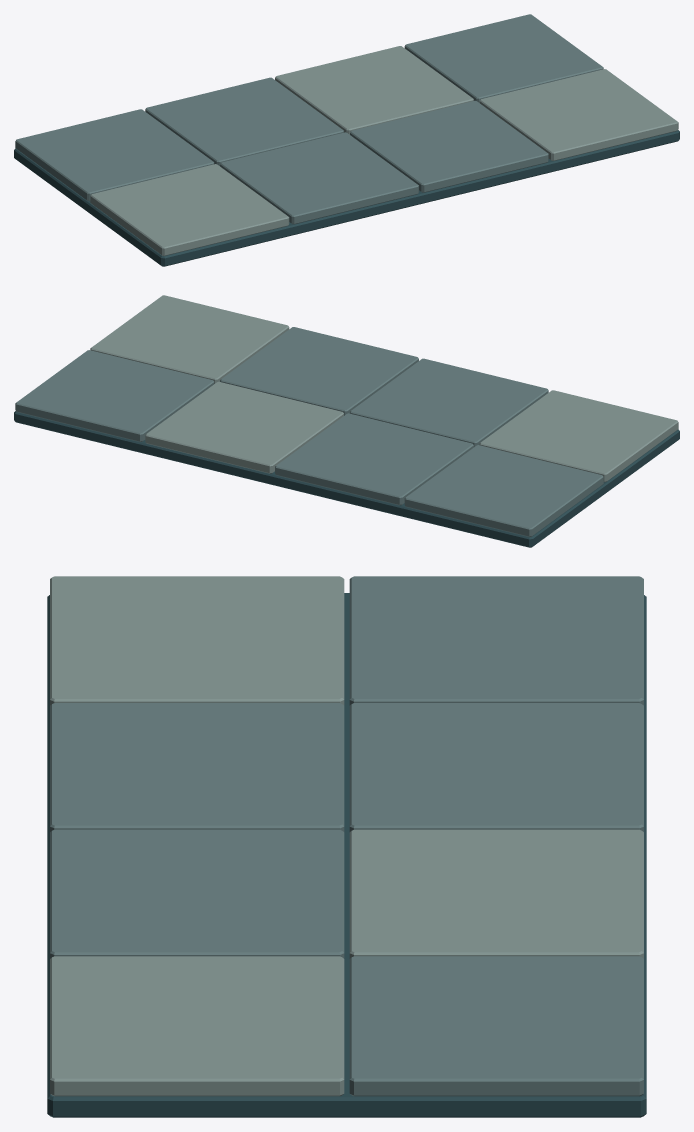
The model's file is floor-large.glb.
The picture shows the model from 3 angles, top to bottom: view 1: azimuth 30°, elevation 25°; view 2: azimuth 150°, elevation 25°; view 3: azimuth 270°, elevation 25°; orthographic projection. The views are drawn at different scales.
Visible parts, largest first — view 1: floor-large__body; view 2: floor-large__body; view 3: floor-large__body.
Boxes of the visible parts, x1,y1,x2,y2 form: floor-large__body: [14, 14, 679, 266]; floor-large__body: [14, 295, 679, 547]; floor-large__body: [47, 576, 646, 1117].
Bounding box in the file's own units: 4 × 0.14 × 2.
